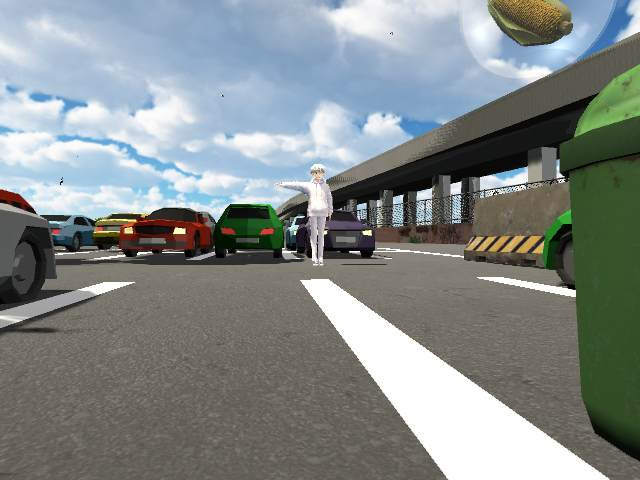singleP_left: (272, 163, 334, 268)
